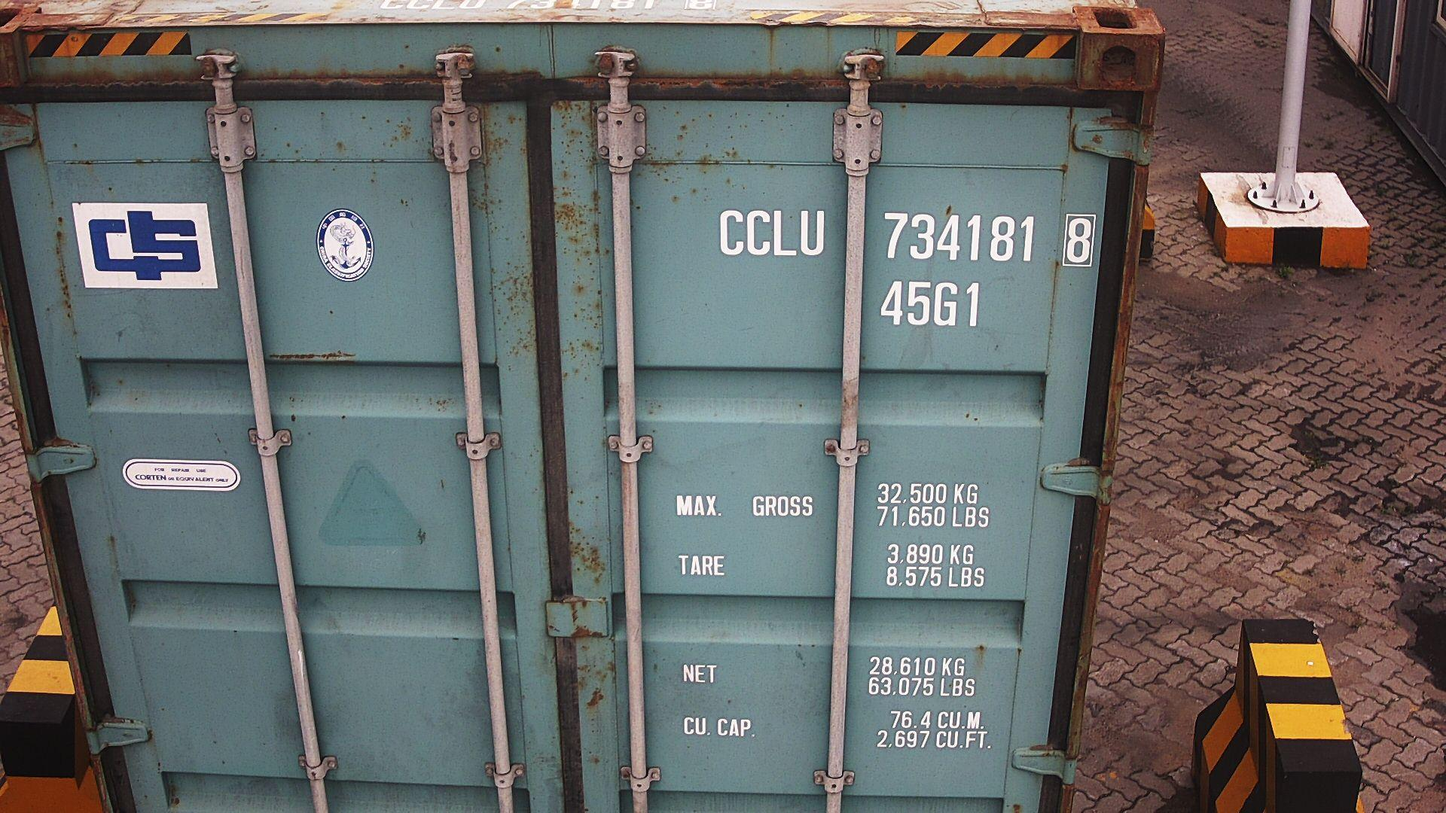container-numbers: (714, 206, 1103, 270), (875, 277, 985, 330)
